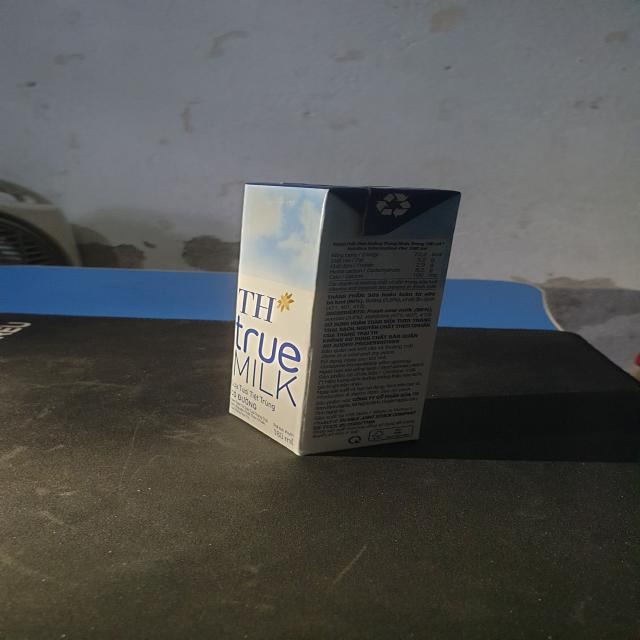TH: (224, 184, 461, 457)
